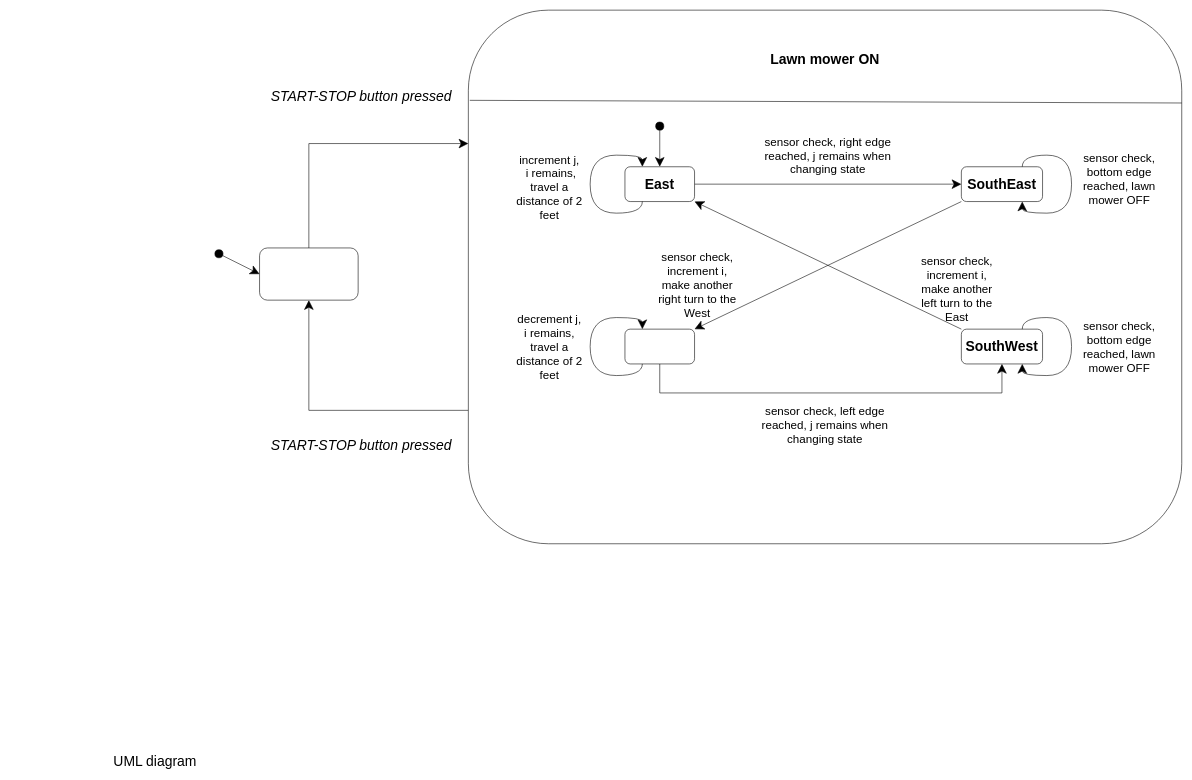
Image size: 1192x780. Some labels were removed from this diagram. Each missing label, with the centre of its shape:
"Lawn Mower OFF" goes at pixel 308 273.
"West" goes at pixel 659 346.
